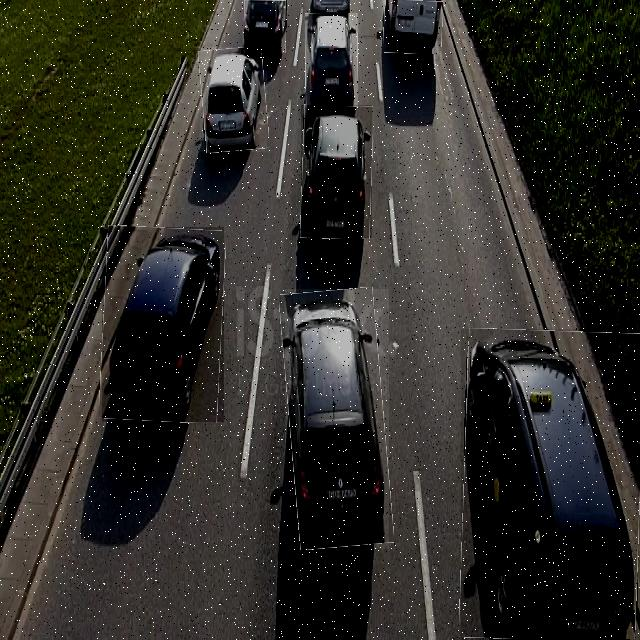Car: (461, 329, 640, 640), (285, 289, 389, 549), (102, 227, 224, 422), (301, 105, 372, 238), (200, 47, 267, 152), (305, 13, 358, 107), (244, 0, 286, 53)
Truck: (383, 0, 442, 53)
